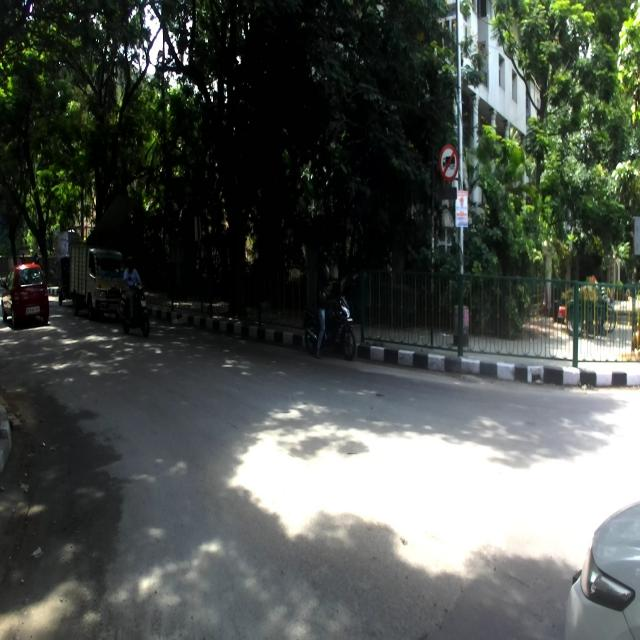car: (564, 504, 640, 639)
motorcycle: (304, 288, 356, 358)
scooter: (118, 276, 149, 336)
